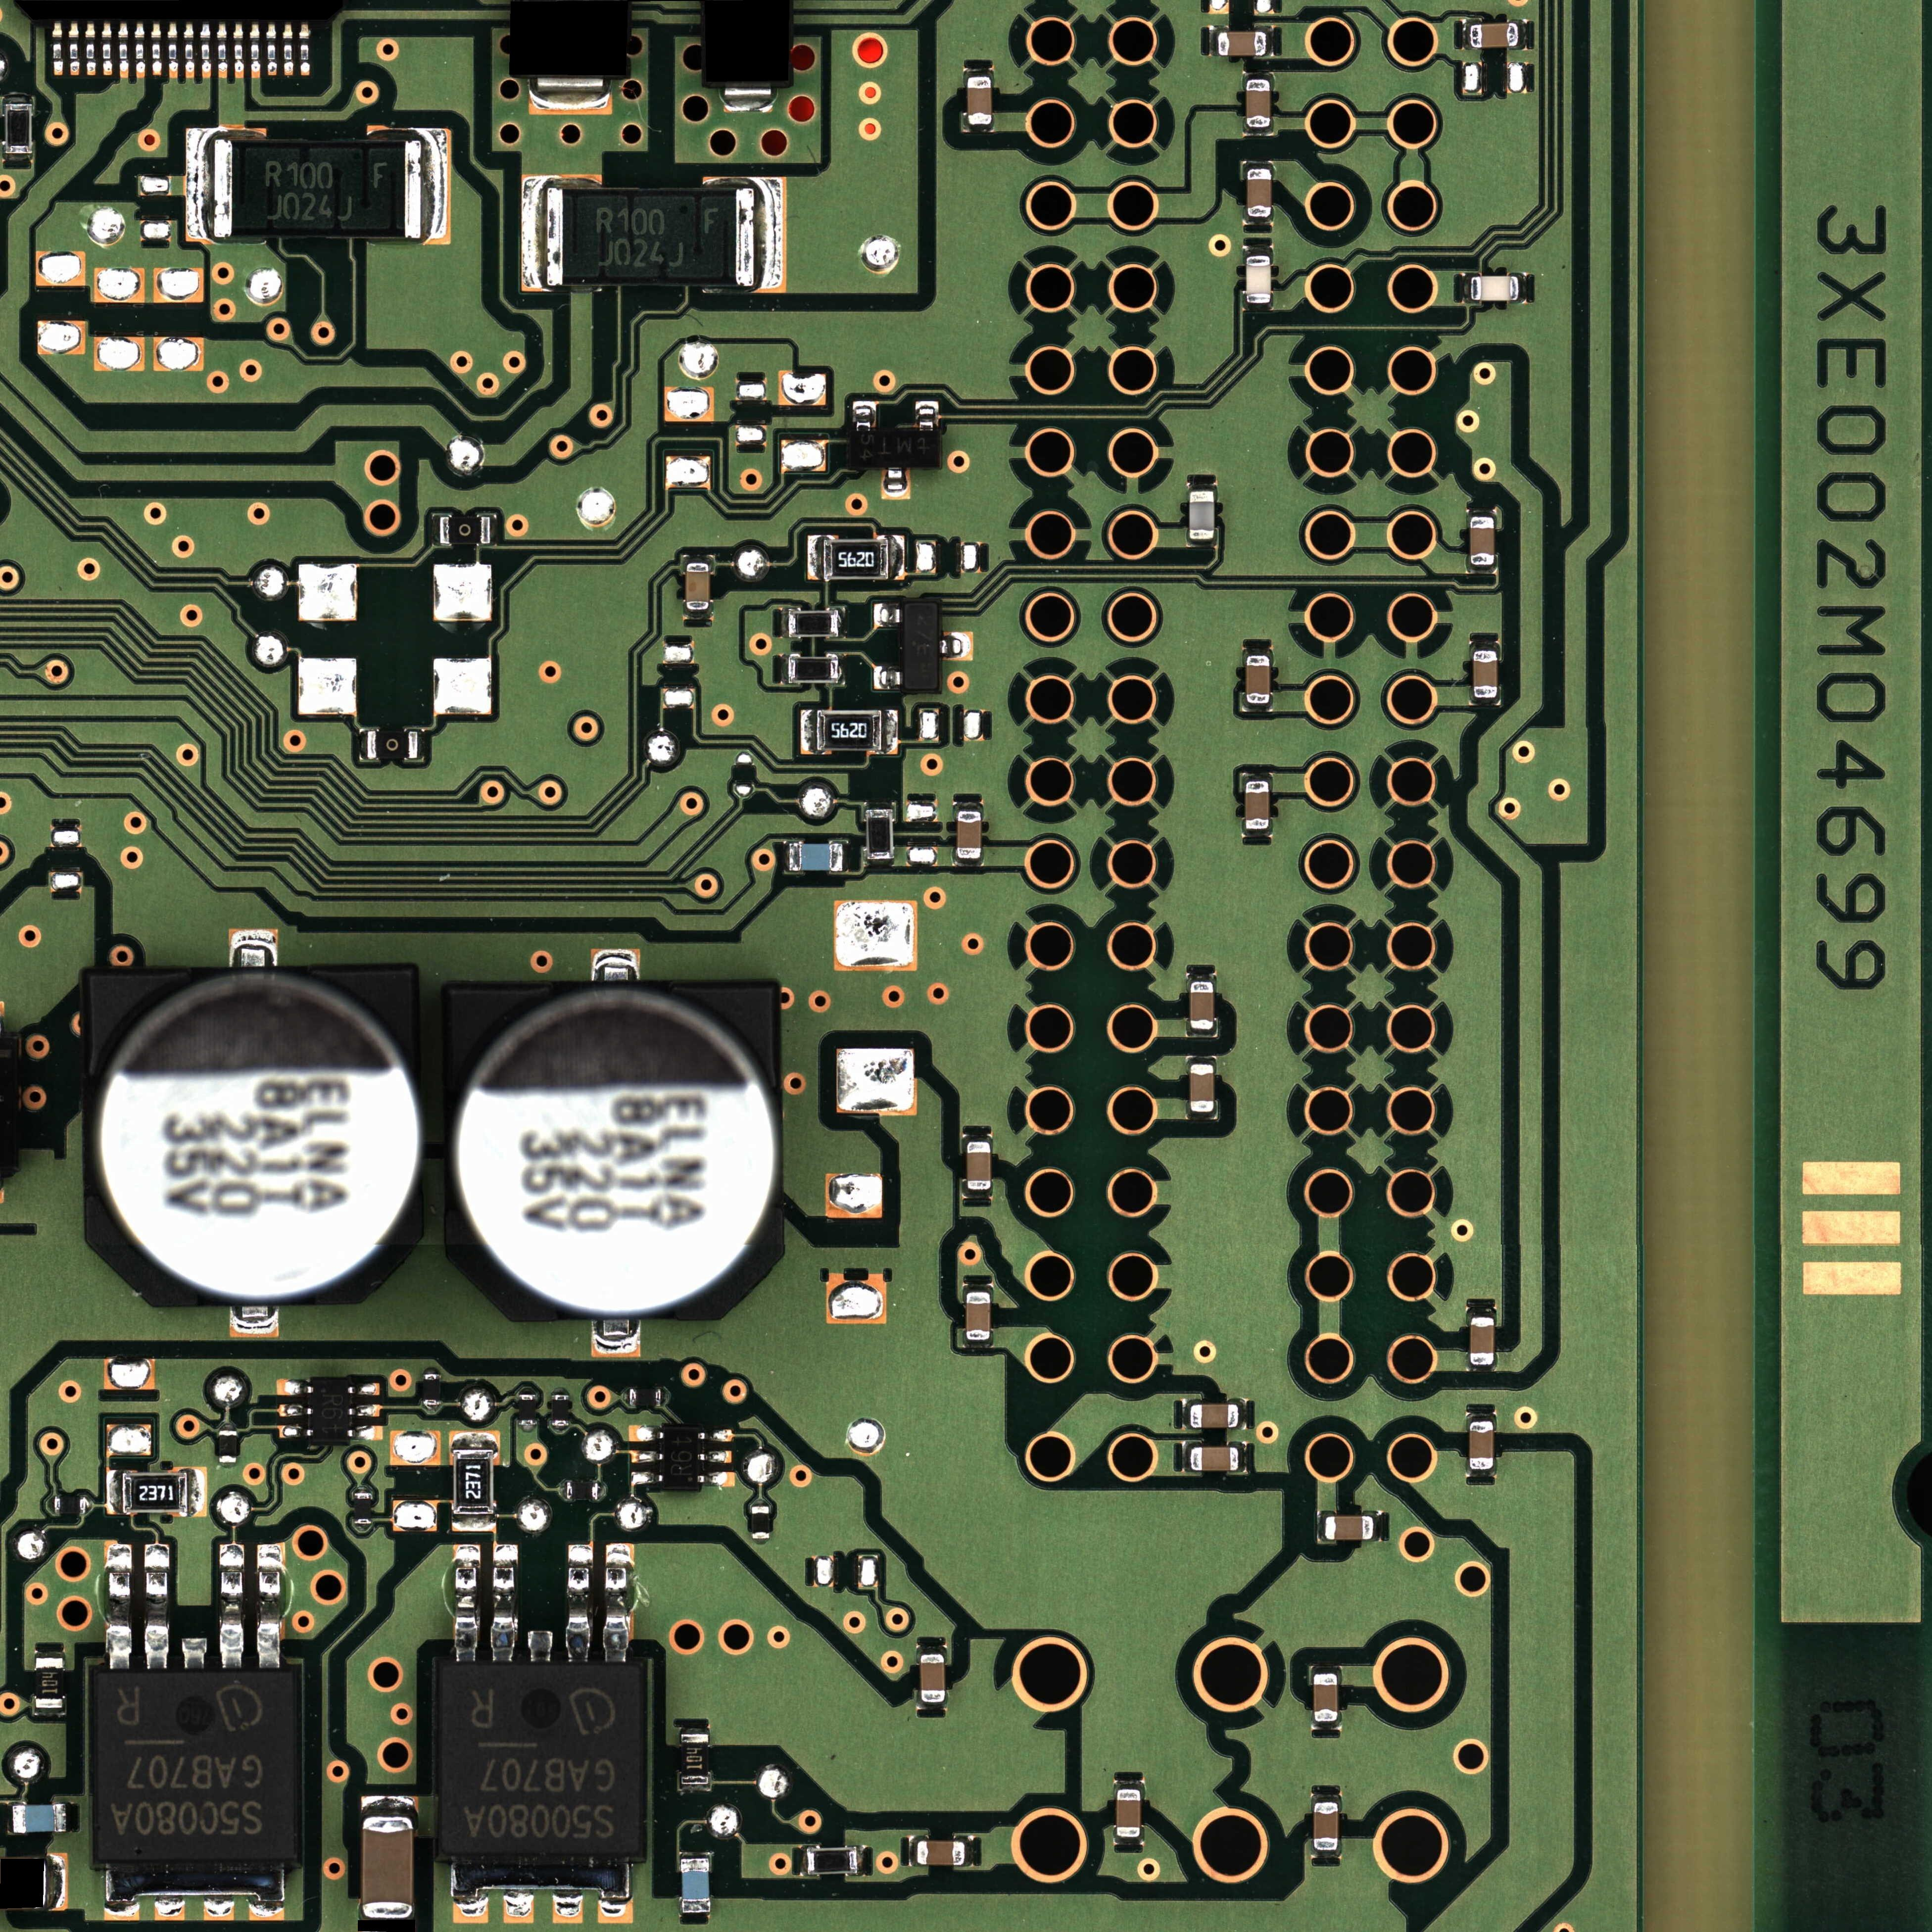Package: (446, 988, 784, 1316), (88, 971, 422, 1302), (442, 1663, 640, 1855), (97, 1671, 293, 1860), (214, 139, 422, 238), (546, 188, 755, 285), (363, 1818, 413, 1918), (850, 431, 940, 468), (904, 603, 938, 689), (122, 1472, 187, 1514), (453, 1450, 494, 1515), (823, 538, 888, 580), (817, 711, 881, 751), (663, 1426, 699, 1488), (313, 1379, 347, 1442), (681, 1859, 710, 1912), (789, 843, 842, 871), (439, 516, 490, 544), (368, 731, 418, 759), (681, 1734, 708, 1785), (36, 1658, 63, 1708), (807, 1847, 857, 1875), (788, 657, 838, 683), (788, 611, 838, 637), (6, 104, 31, 153), (867, 810, 892, 859), (14, 1807, 65, 1832), (1189, 491, 1214, 540), (917, 1840, 965, 1866), (1246, 256, 1271, 303), (966, 1142, 991, 1190), (1471, 276, 1519, 301), (1470, 517, 1495, 565), (1247, 169, 1271, 217), (1313, 1802, 1338, 1850), (920, 1654, 945, 1702), (1218, 32, 1266, 56), (1325, 1516, 1373, 1540), (1116, 1789, 1141, 1837), (1470, 23, 1518, 48), (1246, 80, 1270, 128), (1190, 981, 1214, 1029), (1191, 1447, 1239, 1471), (1469, 1421, 1494, 1469), (957, 811, 981, 859), (967, 77, 991, 124), (966, 1292, 990, 1340), (1246, 656, 1270, 703), (1313, 1674, 1338, 1722), (1190, 1404, 1238, 1428), (1473, 651, 1497, 698), (1245, 781, 1269, 829), (1190, 1064, 1214, 1112), (1470, 1317, 1494, 1365), (686, 563, 709, 610), (751, 1506, 770, 1539), (423, 1374, 441, 1405), (219, 1431, 237, 1462), (354, 1493, 372, 1524), (567, 1482, 598, 1500), (629, 1389, 661, 1406), (519, 1394, 536, 1425), (552, 1395, 569, 1426), (54, 1497, 85, 1513)
Solder: (450, 1855, 633, 1924), (103, 1865, 285, 1921), (755, 177, 786, 293), (603, 1543, 632, 1662), (105, 1544, 132, 1670), (144, 1543, 170, 1669), (257, 1544, 283, 1669), (422, 129, 451, 243), (491, 1544, 518, 1663), (219, 1544, 244, 1668), (453, 1544, 479, 1662), (187, 129, 213, 241), (567, 1545, 592, 1662), (529, 80, 612, 114), (522, 176, 546, 291), (592, 1319, 640, 1357), (228, 930, 278, 966), (590, 947, 640, 980), (229, 1305, 279, 1338), (724, 88, 773, 113), (361, 1796, 417, 1816), (48, 1854, 67, 1911), (939, 632, 972, 660), (188, 1467, 206, 1517), (449, 1431, 500, 1449), (881, 469, 910, 499), (528, 1630, 553, 1661), (182, 1638, 207, 1668), (451, 1515, 497, 1532), (882, 710, 898, 754), (800, 710, 817, 754), (889, 535, 905, 580), (106, 1470, 122, 1515), (808, 535, 823, 580), (873, 667, 904, 689), (853, 401, 876, 430), (874, 603, 903, 627), (916, 401, 938, 430), (216, 22, 227, 79), (233, 22, 244, 79), (250, 22, 261, 79), (168, 22, 179, 79), (118, 22, 129, 79), (200, 22, 211, 79), (69, 22, 80, 76), (85, 22, 96, 76), (151, 22, 162, 76), (136, 22, 146, 79), (184, 22, 194, 79), (277, 1380, 314, 1396), (52, 22, 63, 76), (102, 22, 113, 76), (283, 22, 293, 76), (299, 23, 310, 76), (266, 22, 277, 76), (628, 1426, 664, 1442), (698, 1471, 735, 1486), (278, 1404, 313, 1417), (279, 1426, 313, 1439), (347, 1426, 378, 1440), (700, 1429, 733, 1442), (699, 1450, 732, 1463), (347, 1404, 381, 1417), (629, 1450, 663, 1463), (348, 1383, 380, 1396), (631, 1471, 663, 1484), (2, 1804, 13, 1834), (963, 1282, 993, 1292), (1243, 245, 1273, 255), (1466, 1307, 1497, 1317), (1113, 1780, 1145, 1789), (66, 1803, 76, 1833), (1181, 1442, 1191, 1472), (964, 67, 994, 77), (917, 1644, 947, 1654), (1208, 26, 1218, 56), (1470, 641, 1500, 650), (1466, 565, 1497, 574), (683, 610, 713, 620), (1243, 127, 1274, 136), (1238, 1399, 1247, 1430), (954, 801, 983, 811), (963, 125, 994, 134), (962, 1190, 993, 1199), (1242, 773, 1273, 781), (1310, 1665, 1341, 1674), (683, 554, 713, 563), (1311, 1793, 1341, 1802), (952, 859, 984, 867), (1186, 539, 1218, 548), (1241, 704, 1273, 712), (1186, 1112, 1218, 1120), (963, 1340, 992, 1349), (963, 1133, 992, 1142), (1187, 482, 1217, 491), (1311, 1721, 1341, 1730), (1466, 1412, 1496, 1421), (909, 1835, 917, 1867), (1239, 1442, 1247, 1473), (1187, 972, 1216, 981), (1187, 1055, 1216, 1064), (2, 95, 33, 103), (2, 153, 33, 162), (917, 1702, 947, 1711), (965, 1836, 973, 1867), (1243, 160, 1273, 169), (1243, 217, 1273, 225), (1182, 1399, 1190, 1430), (1187, 1029, 1217, 1038), (1518, 19, 1527, 50), (678, 1785, 711, 1792), (1243, 71, 1273, 80), (1266, 26, 1275, 56), (1311, 1850, 1341, 1859), (1466, 508, 1497, 517), (1466, 1469, 1497, 1478), (1317, 1511, 1325, 1543), (1469, 698, 1501, 706), (432, 514, 440, 545), (34, 1708, 65, 1716), (679, 1851, 711, 1859), (1242, 829, 1273, 837), (780, 655, 788, 684), (838, 608, 846, 637), (680, 1726, 709, 1734), (1243, 647, 1272, 655), (1462, 19, 1470, 50), (837, 655, 846, 683), (35, 1650, 65, 1658), (1373, 1511, 1381, 1542), (780, 608, 788, 638), (782, 841, 789, 872), (864, 801, 894, 809), (842, 842, 850, 871), (1242, 304, 1273, 311), (1114, 1837, 1144, 1845), (490, 514, 497, 545), (858, 1845, 865, 1876), (417, 729, 425, 760), (360, 730, 367, 760), (1519, 273, 1526, 303), (1463, 273, 1470, 303), (1467, 1364, 1497, 1372), (865, 859, 894, 867), (800, 1846, 808, 1876), (679, 1913, 710, 1920), (752, 1539, 770, 1546), (219, 1423, 238, 1430), (423, 1405, 440, 1413), (519, 1387, 536, 1394), (218, 1462, 237, 1469), (353, 1524, 372, 1531), (550, 1426, 569, 1433), (423, 1367, 441, 1374), (752, 1499, 769, 1506), (519, 1425, 536, 1432), (48, 1497, 54, 1513), (552, 1388, 569, 1395), (560, 1482, 567, 1498), (598, 1483, 605, 1499), (354, 1487, 372, 1493), (661, 1389, 668, 1405), (624, 1389, 630, 1405), (86, 1497, 92, 1513)
